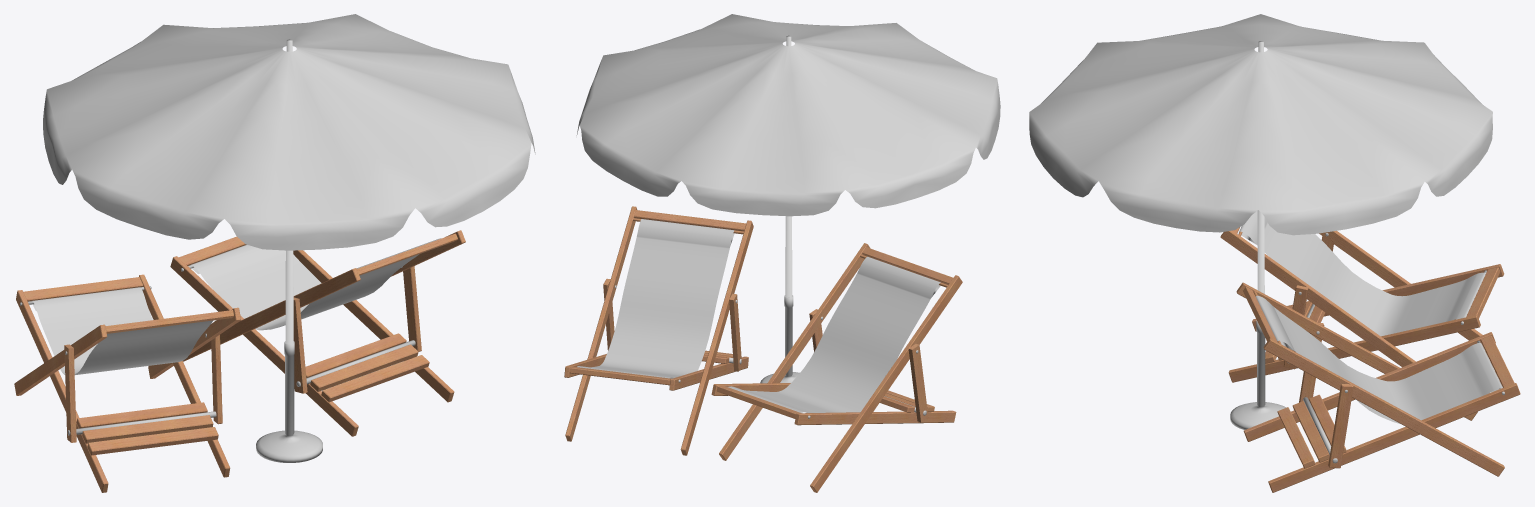
File: SlingChairs_Export.dae
3 renders of one model, left to right at view 1: azimuth 30°, elevation 25°; view 2: azimuth 150°, elevation 25°; view 3: azimuth 270°, elevation 25°, orthographic. The views are drawn at different scales.
Visible parts, largest first — view 1: Umbrella, Chair_001, Chair_002, Umbrella_Stand; view 2: Umbrella, Chair_001, Chair_002, Umbrella_Stand; view 3: Umbrella, Chair_002, Chair_001, Umbrella_Stand.
Boxes of the visible parts, x1,y1,x2,y2 form: Umbrella: (43,14,535,250); Chair_001: (14,274,240,492); Chair_002: (170,230,465,436); Umbrella_Stand: (256,39,322,462); Umbrella: (576,14,1000,216); Chair_001: (711,243,962,492); Chair_002: (564,206,753,455); Umbrella_Stand: (760,35,799,383); Umbrella: (1029,14,1492,235); Chair_002: (1236,282,1520,492); Chair_001: (1220,211,1504,382); Umbrella_Stand: (1230,41,1285,429).
Size of the model in its own units: 11.73 by 12.4 by 10.49.
Materials: 5 (1 with a texture image).
